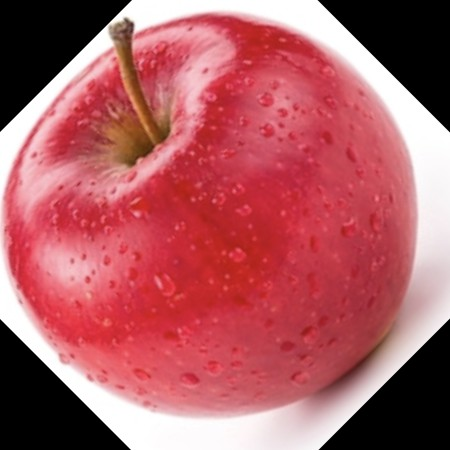fresh_apple: (14, 14, 417, 414)
